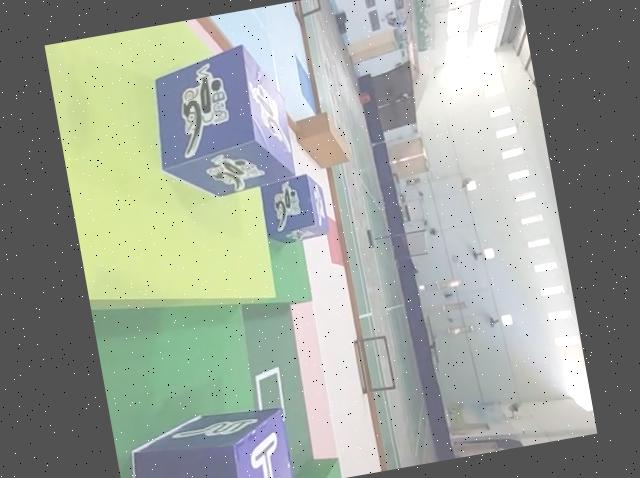R1 Blue: (140, 38, 296, 205), (257, 172, 330, 247)
R2 Fake Blue: (111, 401, 294, 478)
